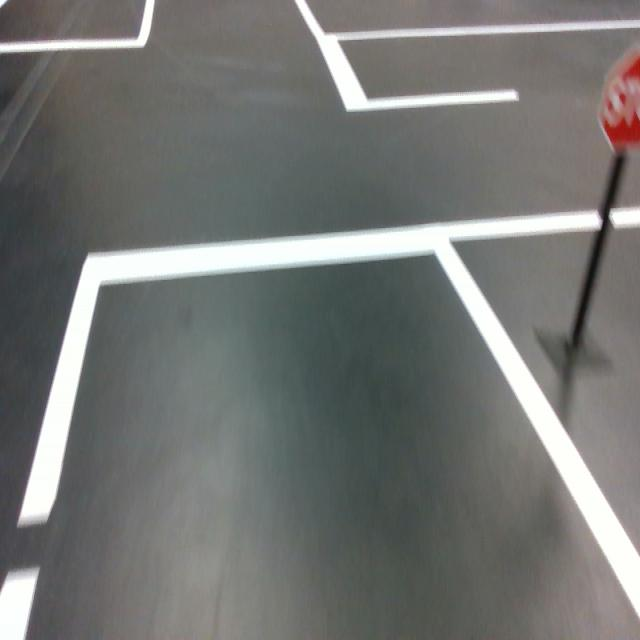stop-sign: (596, 43, 640, 155)
